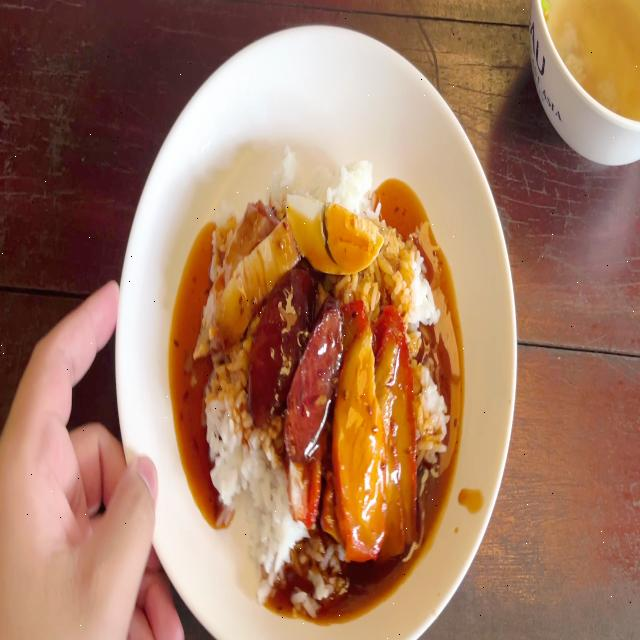boiled_egg: (288, 193, 384, 272)
chainese_sausage: (244, 269, 335, 452)
crispy_pork: (199, 206, 293, 349)
red_pork: (342, 312, 416, 540), (340, 318, 383, 542), (379, 321, 419, 537)
red_pork_and_crispy_pork: (207, 146, 452, 596)
rice: (243, 448, 298, 596), (277, 141, 376, 206), (207, 367, 254, 495), (385, 228, 434, 322), (424, 368, 442, 464)
